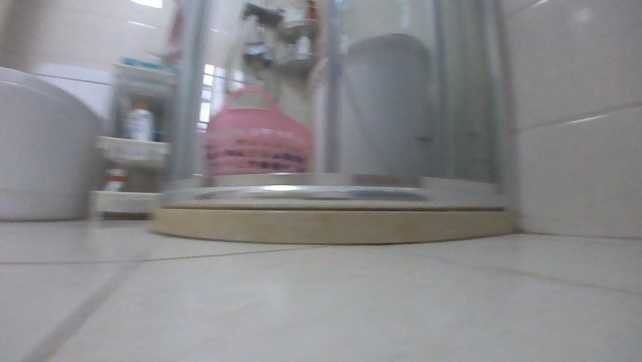toilet: (0, 61, 109, 221)
